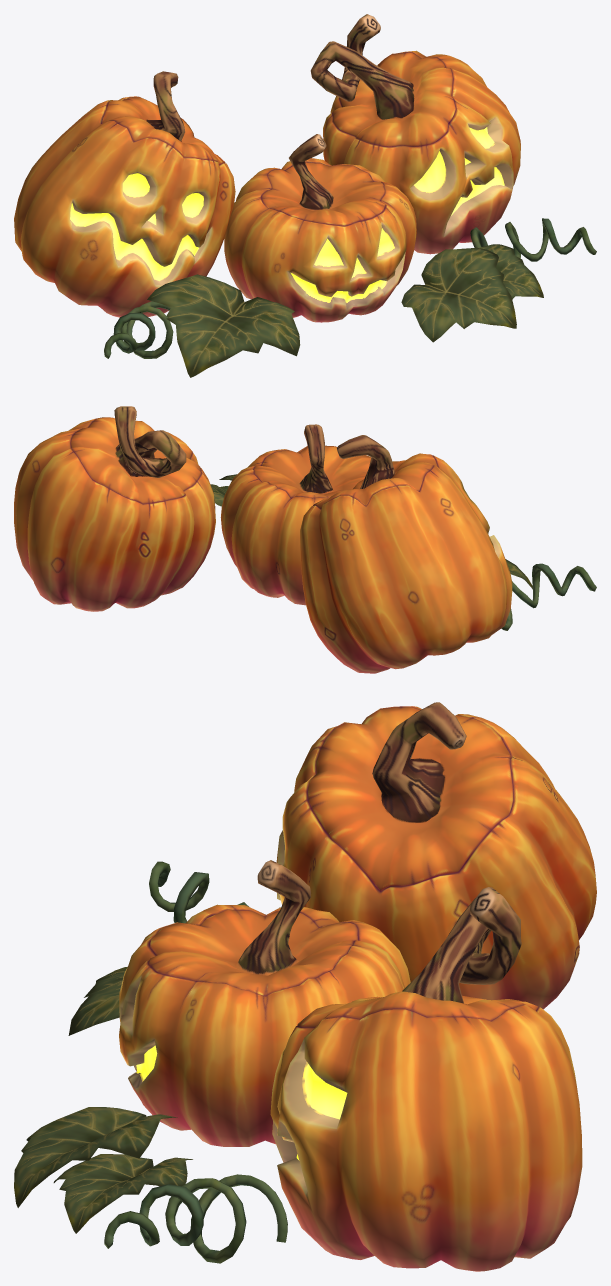
The picture shows the model from 3 angles, top to bottom: view 1: azimuth 30°, elevation 25°; view 2: azimuth 150°, elevation 25°; view 3: azimuth 270°, elevation 25°; orthographic projection. The views are drawn at different scales.
Parts seen in each view (by area): view 1: RetopoFlow.002, RetopoFlow.001, RetopoFlow, RetopoFlow.006, RetopoFlow.003, Spiral.002, Spiral.001, RetopoFlow.005; view 2: RetopoFlow.002, RetopoFlow.001, RetopoFlow, Spiral.002; view 3: RetopoFlow.001, RetopoFlow.002, RetopoFlow, RetopoFlow.003, Spiral.001, RetopoFlow.005, RetopoFlow.006, Spiral.002.
Part boxes in pixels (x1,y1,x2,y2): RetopoFlow.002: (14, 71, 235, 317); RetopoFlow.001: (310, 14, 520, 254); RetopoFlow: (224, 134, 416, 322); RetopoFlow.006: (147, 274, 300, 377); RetopoFlow.003: (401, 247, 516, 342); Spiral.002: (104, 301, 173, 358); Spiral.001: (470, 218, 596, 261); RetopoFlow.005: (478, 244, 543, 299); RetopoFlow.002: (300, 435, 512, 673); RetopoFlow.001: (14, 406, 215, 611); RetopoFlow: (220, 424, 371, 605); Spiral.002: (501, 563, 596, 630); RetopoFlow.001: (270, 887, 582, 1271); RetopoFlow.002: (276, 702, 596, 1009); RetopoFlow: (119, 860, 410, 1146); RetopoFlow.003: (14, 1107, 177, 1207); Spiral.001: (104, 1174, 287, 1263); RetopoFlow.005: (53, 1154, 192, 1233); RetopoFlow.006: (68, 967, 127, 1035); Spiral.002: (149, 861, 248, 923).
Bounding box in the file's own units: 4.21 × 1.85 × 2.78.
Materials: 2 (2 with a texture image).
